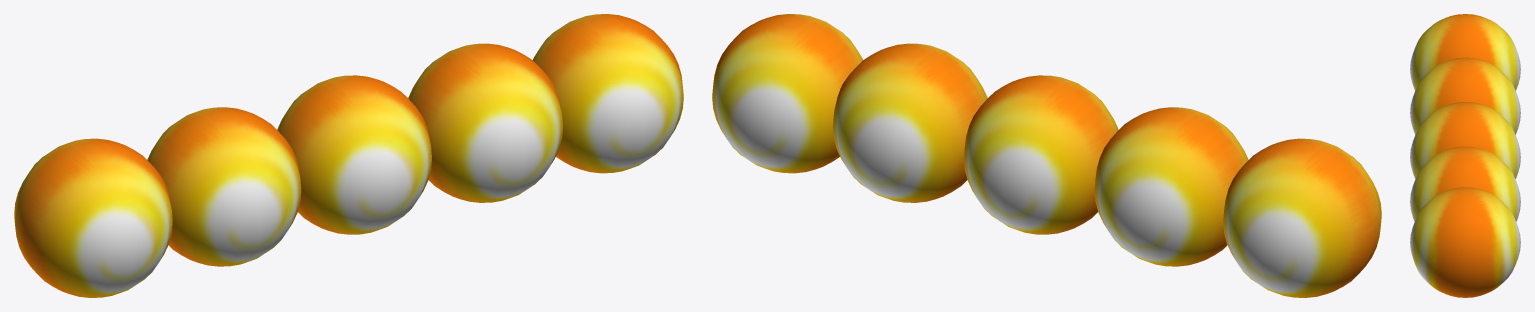
Rendered from firebar.fbx.
3 views of the same model, side by side, from view 1: azimuth 30°, elevation 25°; view 2: azimuth 150°, elevation 25°; view 3: azimuth 270°, elevation 25° (orthographic). The views are drawn at different scales.
Parts seen in each view (by area): view 1: pSphere2; view 2: pSphere2; view 3: pSphere2.
Part boxes in pixels (bbox=[...]): pSphere2: bbox=[14, 14, 683, 297]; pSphere2: bbox=[712, 14, 1381, 297]; pSphere2: bbox=[1410, 14, 1520, 297].
Bounding box in the file's own units: 9.39 × 2 × 2.
